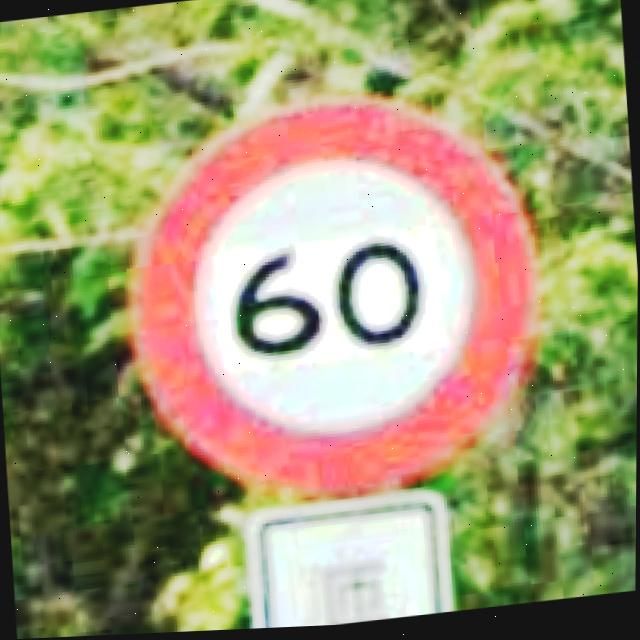max60: (111, 72, 554, 519)
